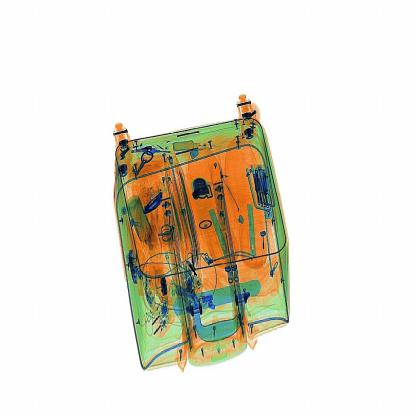knife: (140, 187, 181, 222)
